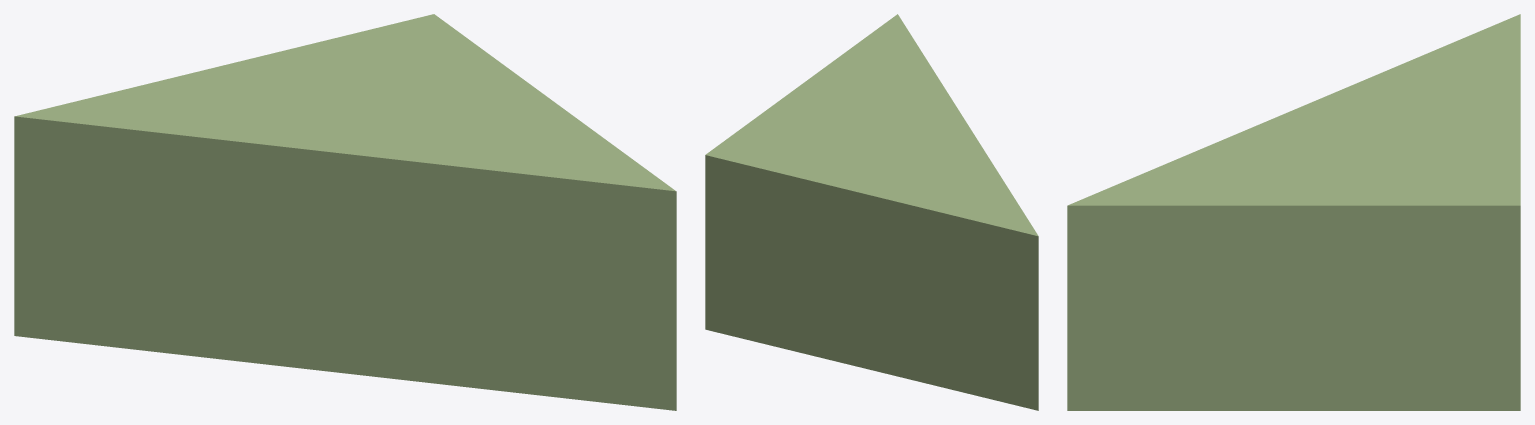
Rendered from GrassTopDiagonalHalf_TempBase.fbx.
The picture shows the model from 3 angles, left to right: view 1: azimuth 30°, elevation 25°; view 2: azimuth 150°, elevation 25°; view 3: azimuth 270°, elevation 25°; orthographic projection. The views are drawn at different scales.
Visible parts, largest first — view 1: GrassTopDiagonalHalf_TempBase; view 2: GrassTopDiagonalHalf_TempBase; view 3: GrassTopDiagonalHalf_TempBase.
Boxes of the visible parts, box(x1,y1,x2,y2) form: GrassTopDiagonalHalf_TempBase: box(14, 14, 676, 410); GrassTopDiagonalHalf_TempBase: box(705, 14, 1038, 410); GrassTopDiagonalHalf_TempBase: box(1067, 14, 1520, 410).
Bounding box in the file's own units: 1 × 0.5 × 1.
